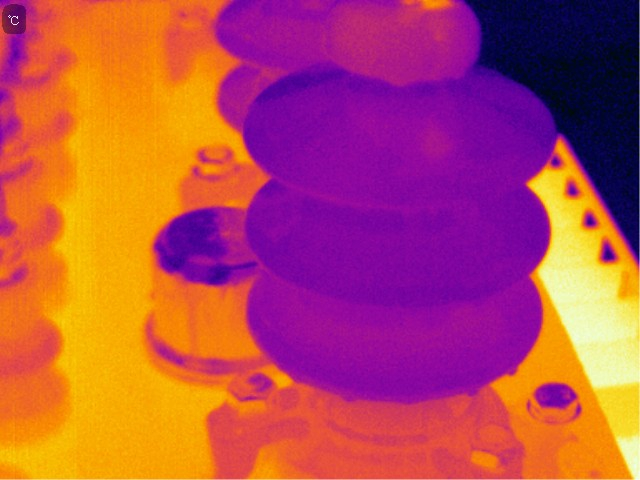Oil: (331, 1, 479, 84), (395, 1, 463, 61), (417, 117, 452, 161), (461, 382, 480, 400), (504, 363, 521, 377)
